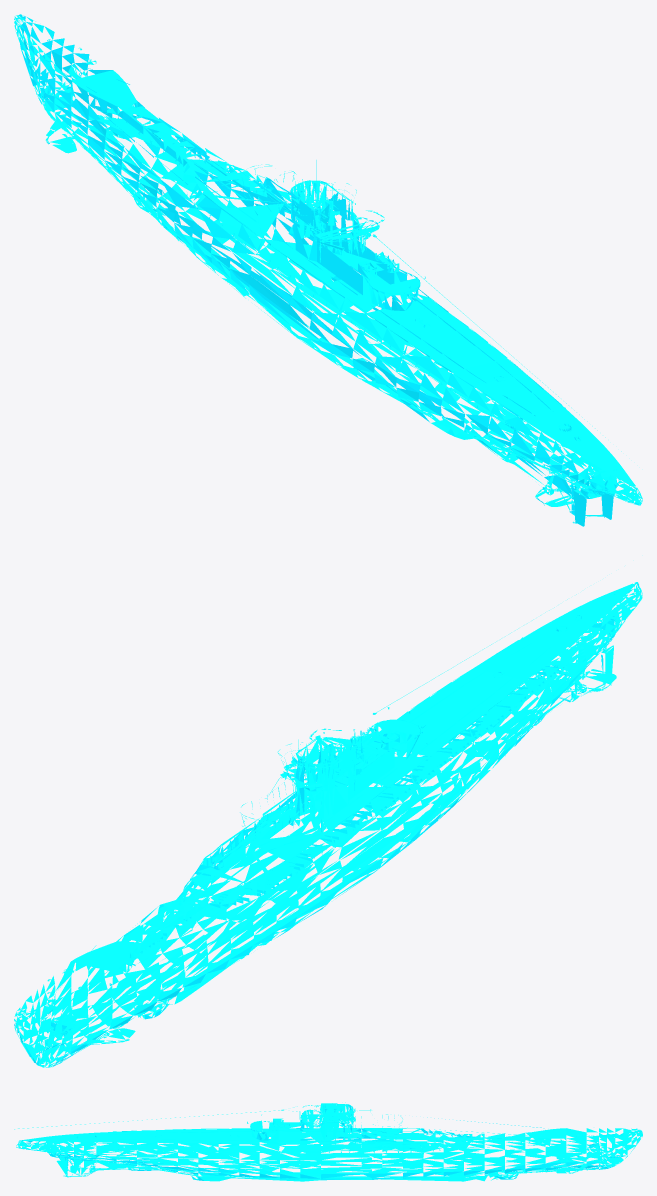
3 views of the same model, one above another, from view 1: azimuth 30°, elevation 25°; view 2: azimuth 150°, elevation 25°; view 3: azimuth 270°, elevation 25° (orthographic). The views are drawn at different scales.
Size of the model in its own units: 0.4507 by 0.749 by 5.13.
